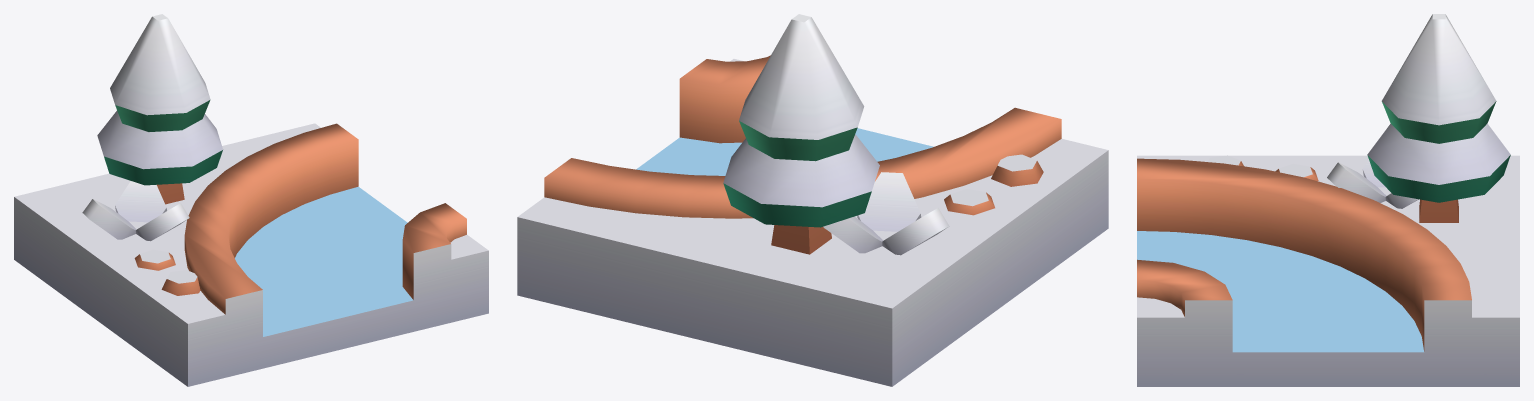
Rendered from kenney-tower-defense-snow-tile-river-corner.glb.
3 renders of one model, left to right at view 1: azimuth 30°, elevation 25°; view 2: azimuth 150°, elevation 25°; view 3: azimuth 270°, elevation 25°, orthographic. The views are drawn at different scales.
Visible parts, largest first — view 1: snow-tile-river-corner; view 2: snow-tile-river-corner; view 3: snow-tile-river-corner.
Boxes of the visible parts, x1,y1,x2,y2 form: snow-tile-river-corner: (14,14,488,386); snow-tile-river-corner: (517,14,1108,386); snow-tile-river-corner: (1137,14,1519,386).
Size of the model in its own units: 1 by 0.77 by 1.
1 material, 1 textured.
